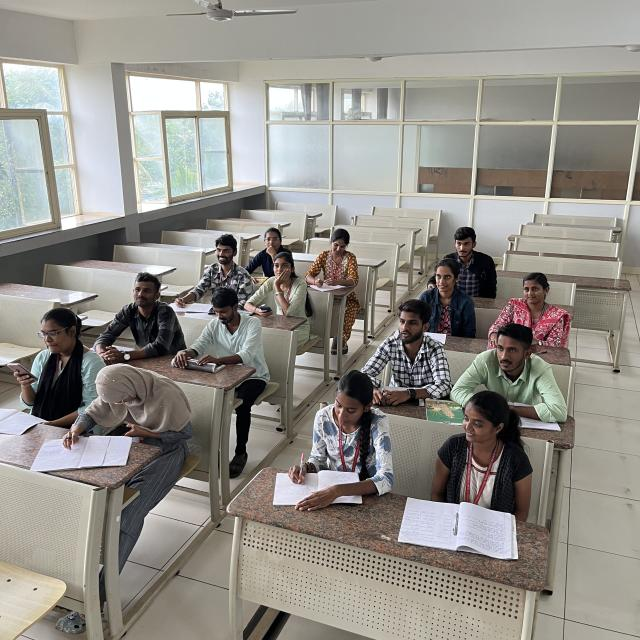Reading: (302, 216, 374, 298)
Using Phone: (0, 301, 108, 425), (76, 358, 196, 452), (245, 247, 310, 322)
Writing: (262, 367, 388, 504), (166, 228, 257, 312), (495, 265, 573, 354)
